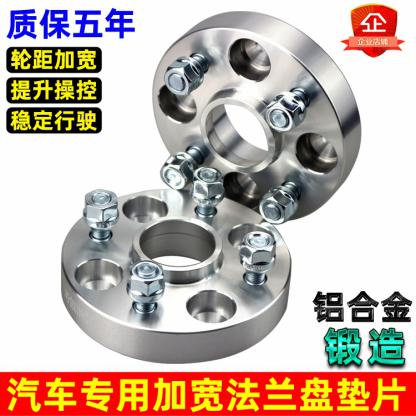FOD: (56, 180, 298, 368), (152, 13, 364, 223)
